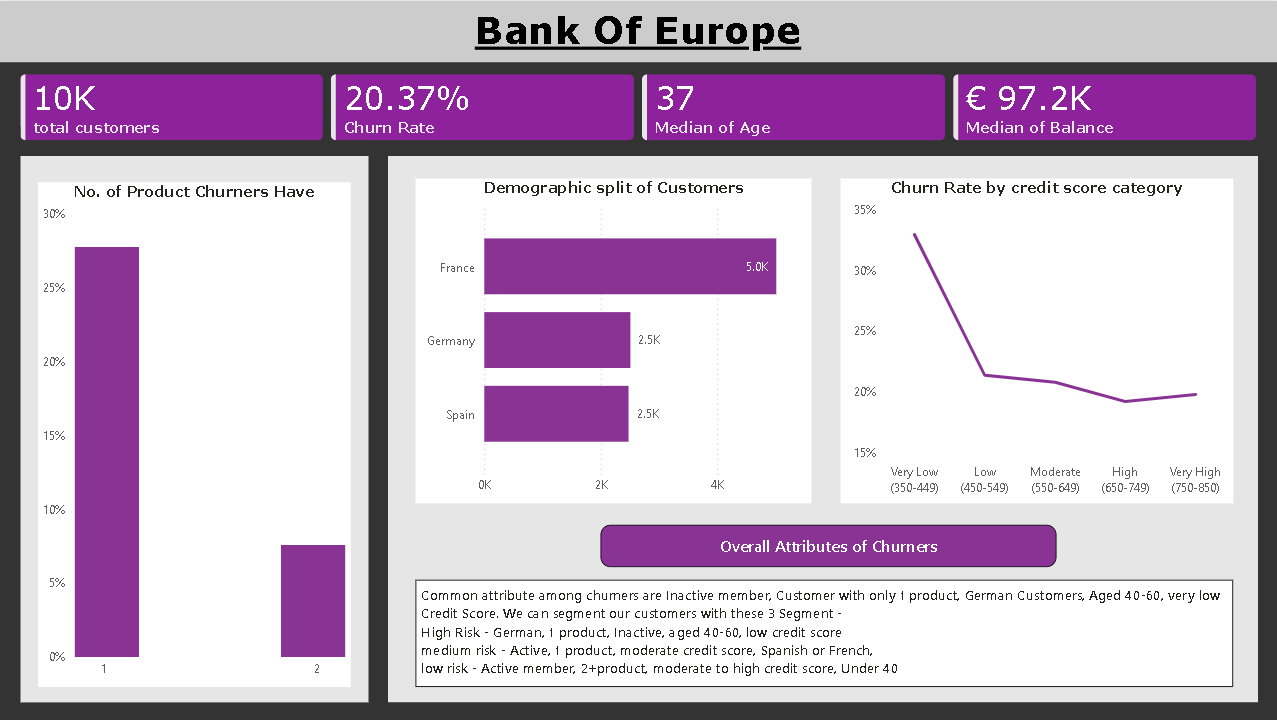

What the dashboard file says about the page in this screenshot:
{"tool":"powerbi","page":{"name":"Page 1","canvas":[1280,720],"ordinal":0},"visuals":[{"type":"shape","box":[0,0,1280,61.2],"z":0},{"type":"cardVisual","fields":{"Data":["Bank_Churn.total customers","Bank_Churn.churn rate","Median(Bank_Churn. Age)","Median(Bank_Churn. Balance  )"]},"box":[0,57.5,1280,93.8],"z":1000},{"type":"shape","box":[390,155,870,546.2],"z":2000},{"type":"clusteredBarChart","title":"Demographic split of Customers","fields":{"Category":["Bank_Churn. Geography"],"Y":["Bank_Churn.total customers"]},"box":[417.5,177.5,396.2,325],"z":3000},{"type":"textbox","box":[436.2,0,407.5,61.2],"z":4000},{"type":"shape","box":[22.8,154.9,348.3,546.4],"z":4500},{"type":"clusteredColumnChart","title":"No. of Product Churners Have","fields":{"Category":["Bank_Churn. NumOfProducts"],"Y":["Bank_Churn.Churn Rate"]},"box":[40,181.2,312.5,505],"z":5000},{"type":"lineChart","fields":{"Category":["Bank_Churn.credit score category"],"Y":["Bank_Churn.Churn Rate"]},"box":[842.5,177.5,392.5,325],"z":6000},{"type":"textbox","box":[417.5,578.8,817.5,107.5],"z":7000},{"type":"textbox","box":[602.5,523.8,456.2,42.5],"z":9000}]}

Visuals, with their boxes in screenshot pixels (x1, y1, x2, y2), scaled from the page's 1280x720 canvas onto the 1277x720 screenshot:
shape: (0, 0, 1276, 61)
cardVisual - Bank_Churn.total customers x Bank_Churn.churn rate: (0, 58, 1276, 151)
shape: (389, 155, 1257, 701)
"Demographic split of Customers" clusteredBarChart: (417, 178, 812, 502)
textbox: (435, 0, 842, 61)
shape: (23, 155, 370, 701)
"No. of Product Churners Have" clusteredColumnChart: (40, 181, 352, 686)
lineChart - Bank_Churn.credit score category x Bank_Churn.Churn Rate: (841, 178, 1232, 502)
textbox: (417, 579, 1232, 686)
textbox: (601, 524, 1056, 566)
